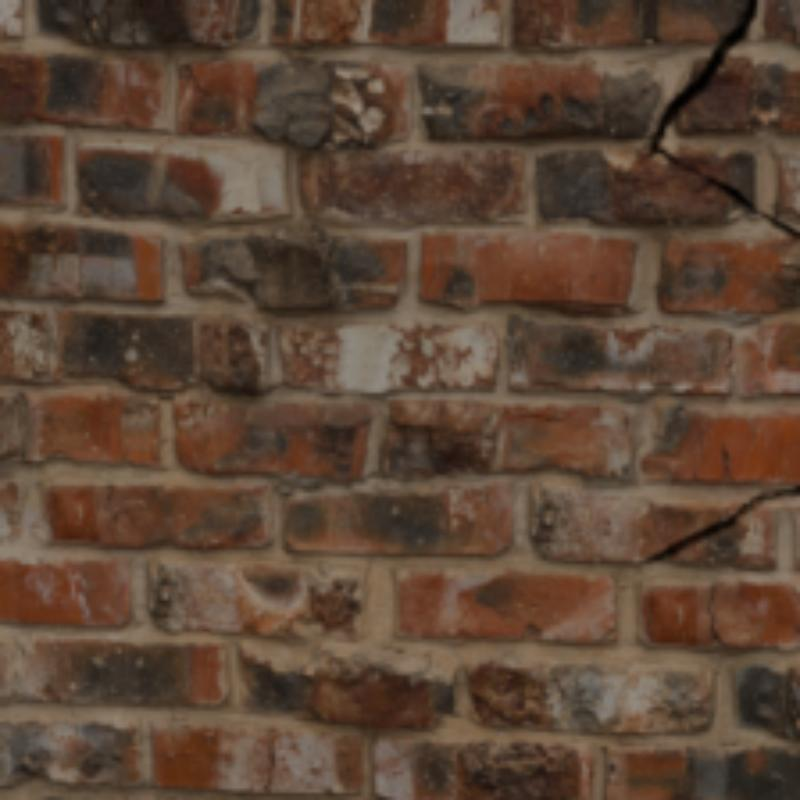pothole: (643, 0, 796, 236), (646, 496, 761, 561), (264, 732, 279, 789), (775, 486, 796, 495)
